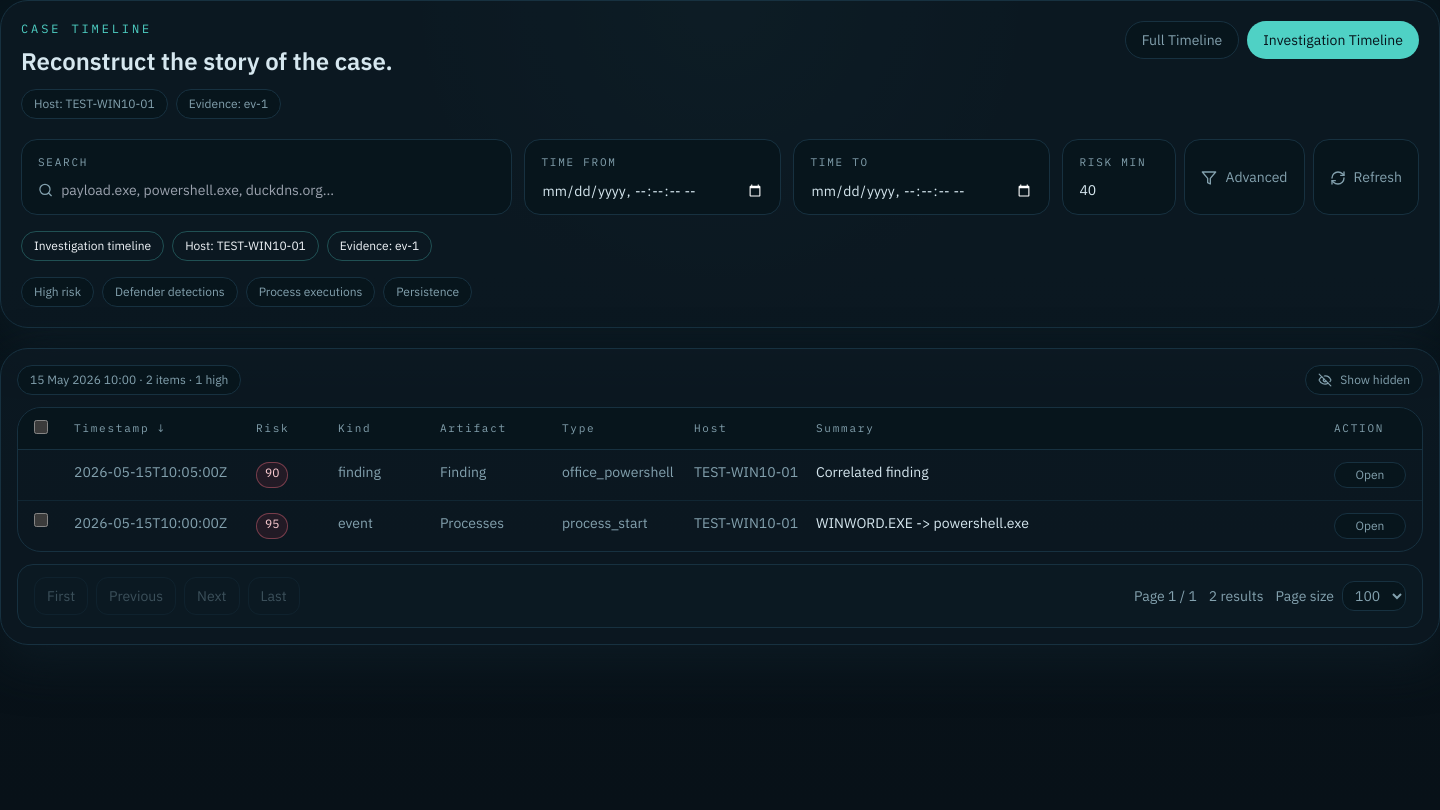
TimelinePage › selecting item opens detail panel
The width and height of the screenshot is (1440, 810).
Click the text "WINWORD.EXE -> powershell.exe". click: [922, 522]
box: x1=816 y1=514 x2=1029 y2=532
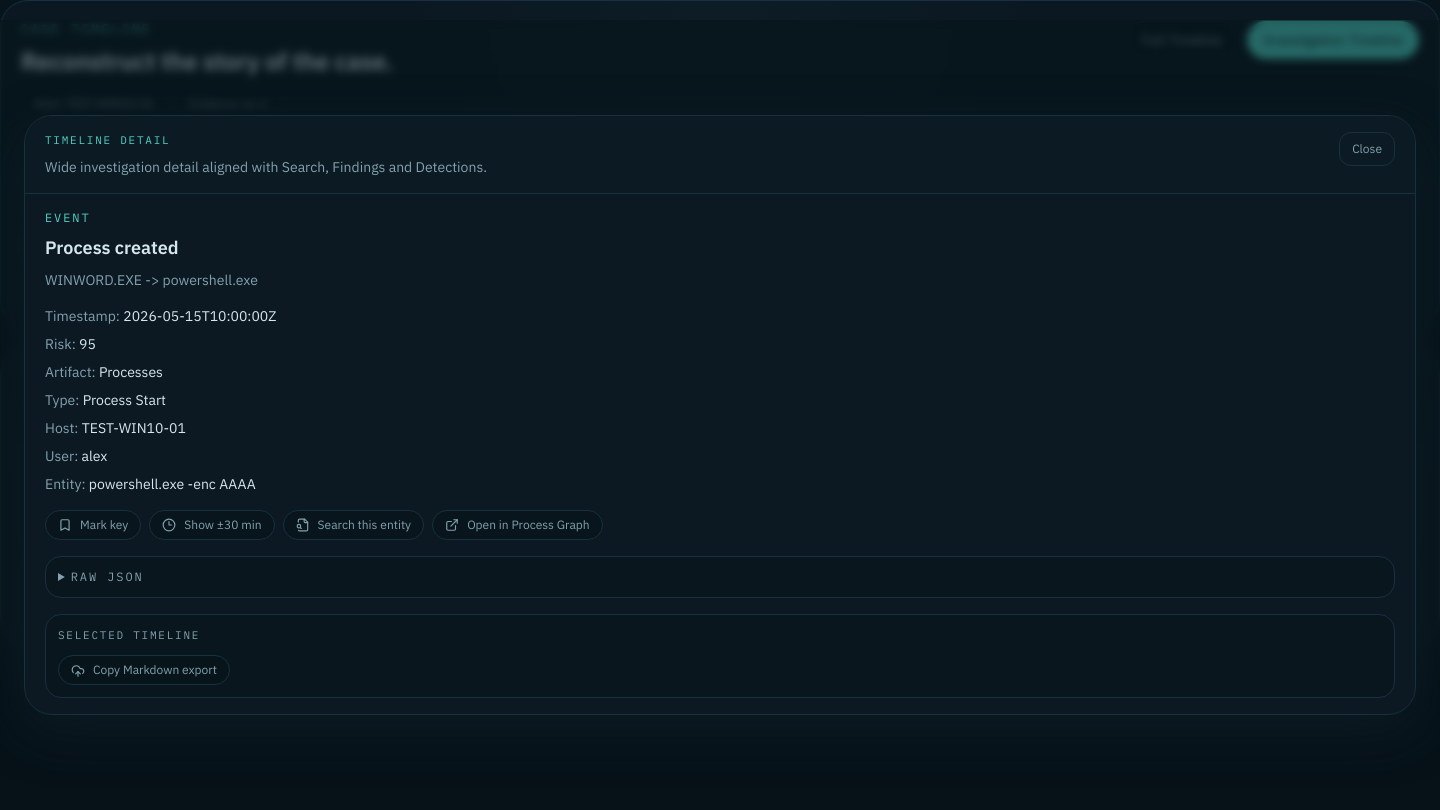
Result: the text "Entity: powershell.exe -enc AAAA" is shown at x1=45 y1=474 x2=256 y2=492
